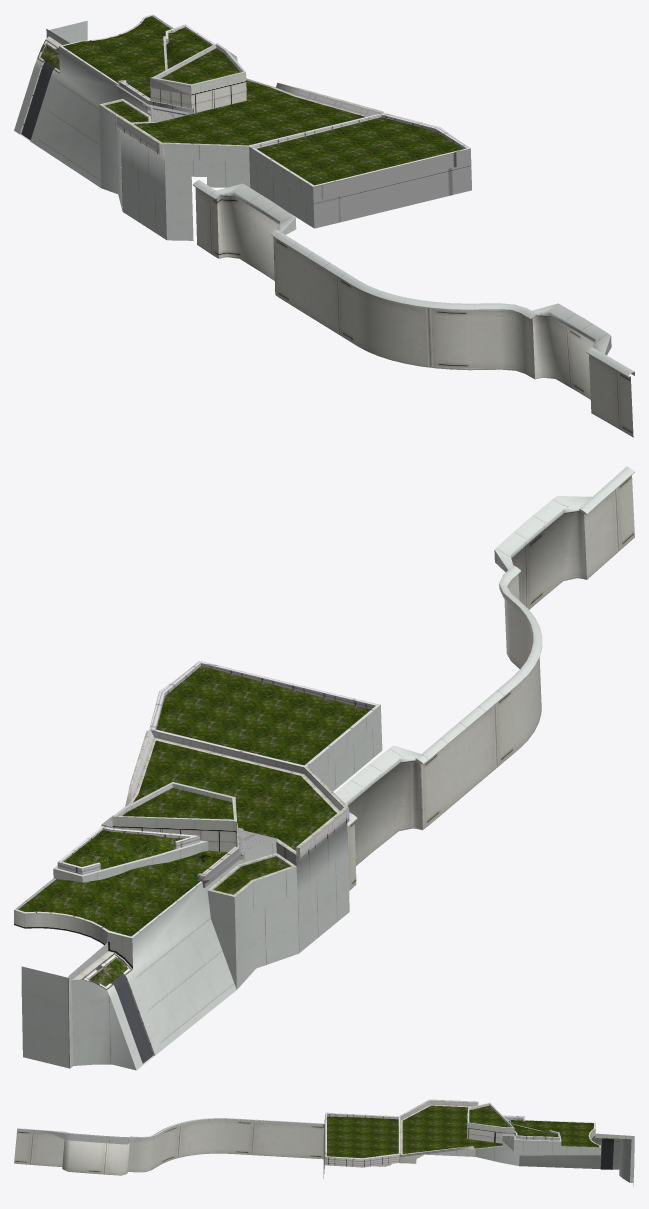
The model's file is STA20_43.FBX.
3 renders of one model, top to bottom at view 1: azimuth 30°, elevation 25°; view 2: azimuth 150°, elevation 25°; view 3: azimuth 270°, elevation 25°, orthographic. The views are drawn at different scales.
Visible parts, largest first — view 1: STA20_43; view 2: STA20_43; view 3: STA20_43.
Part boxes in pixels (x1=…): STA20_43: x1=14, y1=14, x2=634, y2=437; STA20_43: x1=14, y1=466, x2=634, y2=1070; STA20_43: x1=14, y1=1099, x2=634, y2=1186.
Size of the model in its own units: 41.41 by 23.22 by 174.
